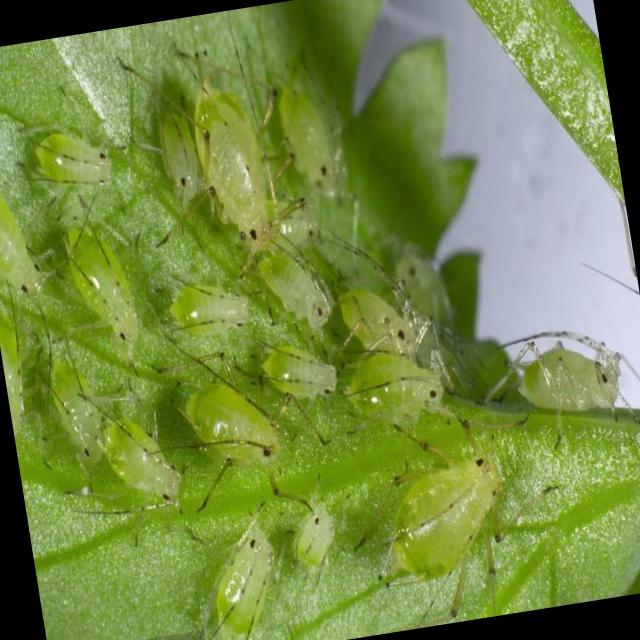aphid: (358, 420, 537, 620), (177, 63, 302, 274), (474, 306, 640, 461), (166, 354, 326, 512), (44, 191, 154, 372), (314, 218, 432, 380), (83, 386, 210, 530), (241, 220, 344, 358), (189, 516, 303, 640), (8, 105, 128, 214), (330, 339, 460, 439), (32, 326, 112, 478), (152, 258, 259, 364), (138, 84, 208, 226), (247, 332, 346, 420), (278, 494, 354, 590)
